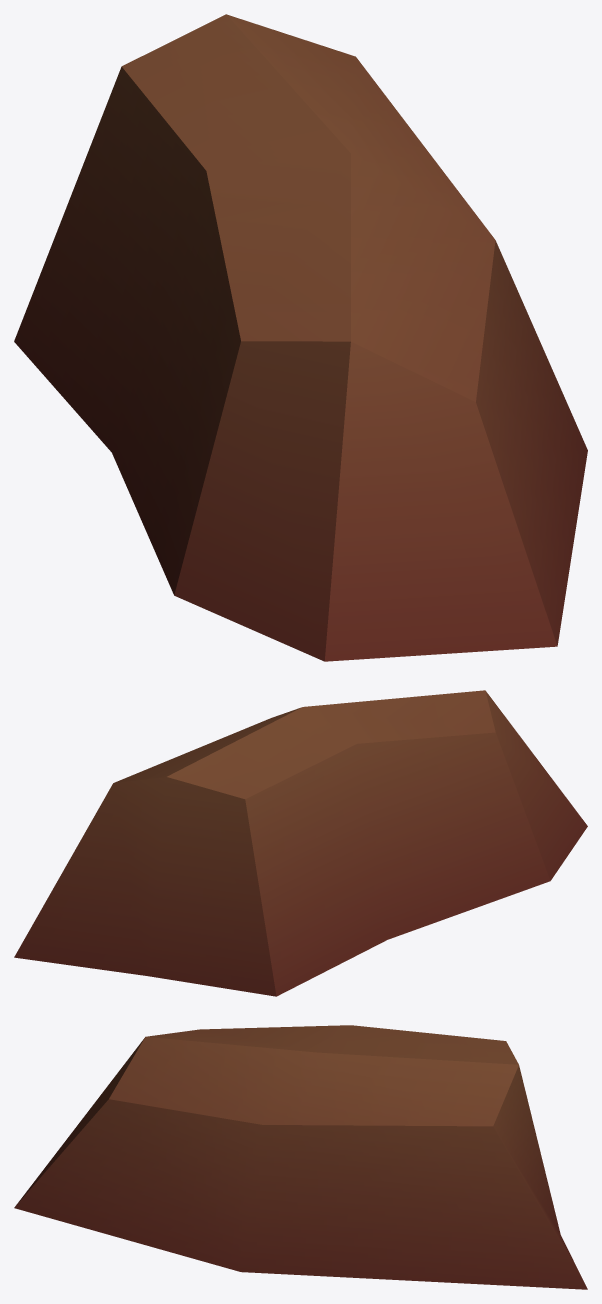
File: Mountain_medium.007.fbx
The picture shows the model from 3 angles, top to bottom: view 1: azimuth 30°, elevation 25°; view 2: azimuth 150°, elevation 25°; view 3: azimuth 270°, elevation 25°; orthographic projection. The views are drawn at different scales.
Parts seen in each view (by area): view 1: Mountain_medium.007; view 2: Mountain_medium.007; view 3: Mountain_medium.007.
Boxes of the visible parts, left/top/right/bottom form: Mountain_medium.007: left=14, top=14, right=587, bottom=661; Mountain_medium.007: left=14, top=690, right=587, bottom=996; Mountain_medium.007: left=14, top=1025, right=587, bottom=1289.
Bounding box in the file's own units: 19.63 × 10.55 × 31.95.
